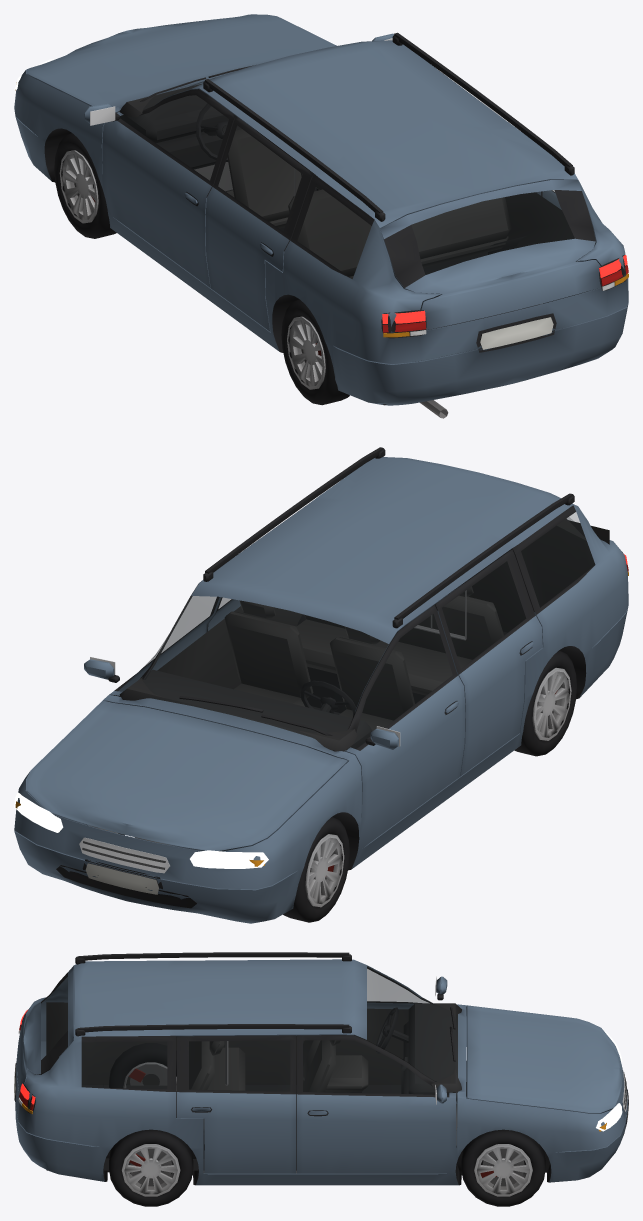
Rendered from car_dogguard_a.glb.
3 renders of one model, top to bottom at view 1: azimuth 30°, elevation 25°; view 2: azimuth 150°, elevation 25°; view 3: azimuth 270°, elevation 25°, orthographic. The views are drawn at different scales.
Visible parts, largest first — view 1: car_dogguard_a_body, wheel_rl, wheel_fl; view 2: car_dogguard_a_body, wheel_fl, wheel_rl, lamp_head_l, lamp_head_r; view 3: car_dogguard_a_body, wheel_rr, wheel_fr, wheel_rl.
Boxes of the visible parts, <box> form: car_dogguard_a_body: <box>14,14,628,418</box>; wheel_rl: <box>281,299,349,405</box>; wheel_fl: <box>54,133,116,238</box>; car_dogguard_a_body: <box>14,447,628,923</box>; wheel_fl: <box>283,817,349,922</box>; wheel_rl: <box>514,650,576,756</box>; lamp_head_l: <box>190,850,268,868</box>; lamp_head_r: <box>14,792,63,832</box>; car_dogguard_a_body: <box>14,952,628,1185</box>; wheel_rr: <box>109,1129,193,1206</box>; wheel_fr: <box>461,1129,545,1206</box>; wheel_rl: <box>109,1043,176,1091</box>.
Size of what is drawn, in the model's own units: 2.23 by 1.51 by 4.87.
